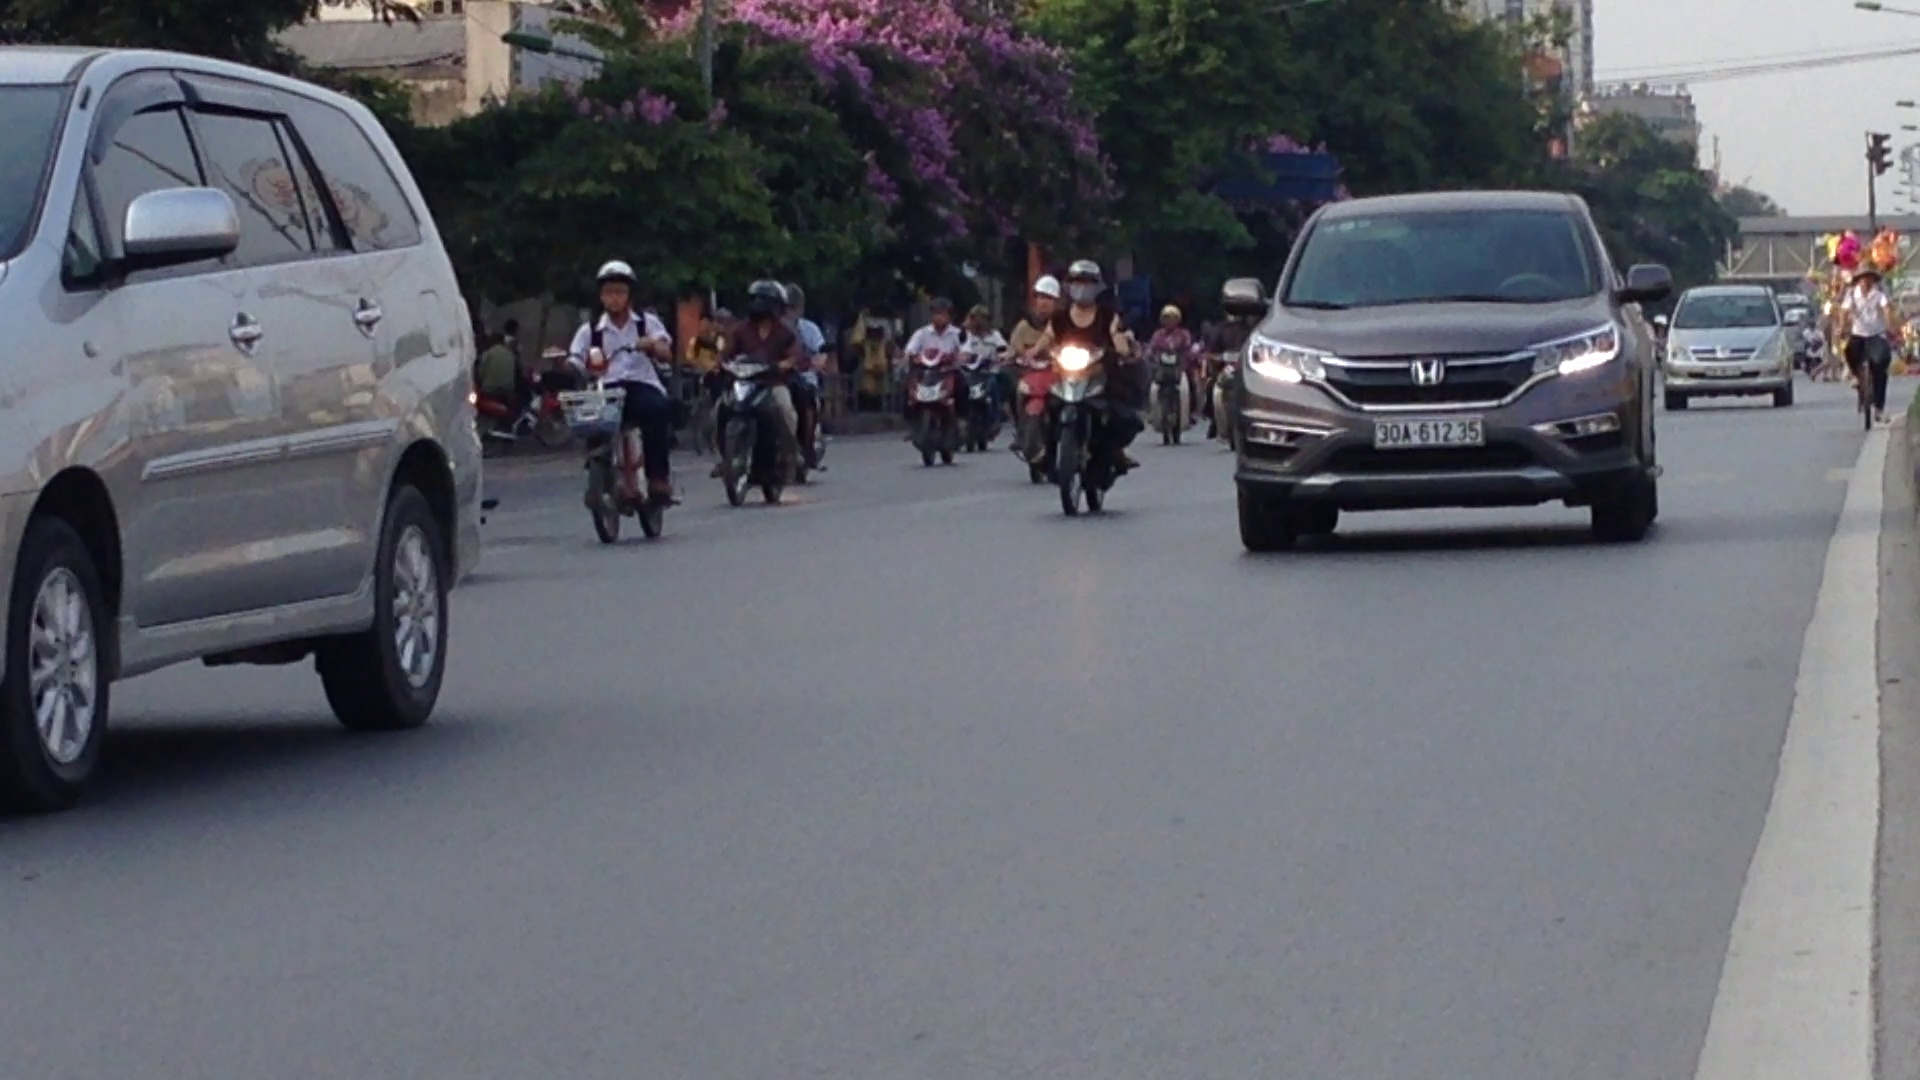person: (1369, 412, 1489, 450)
